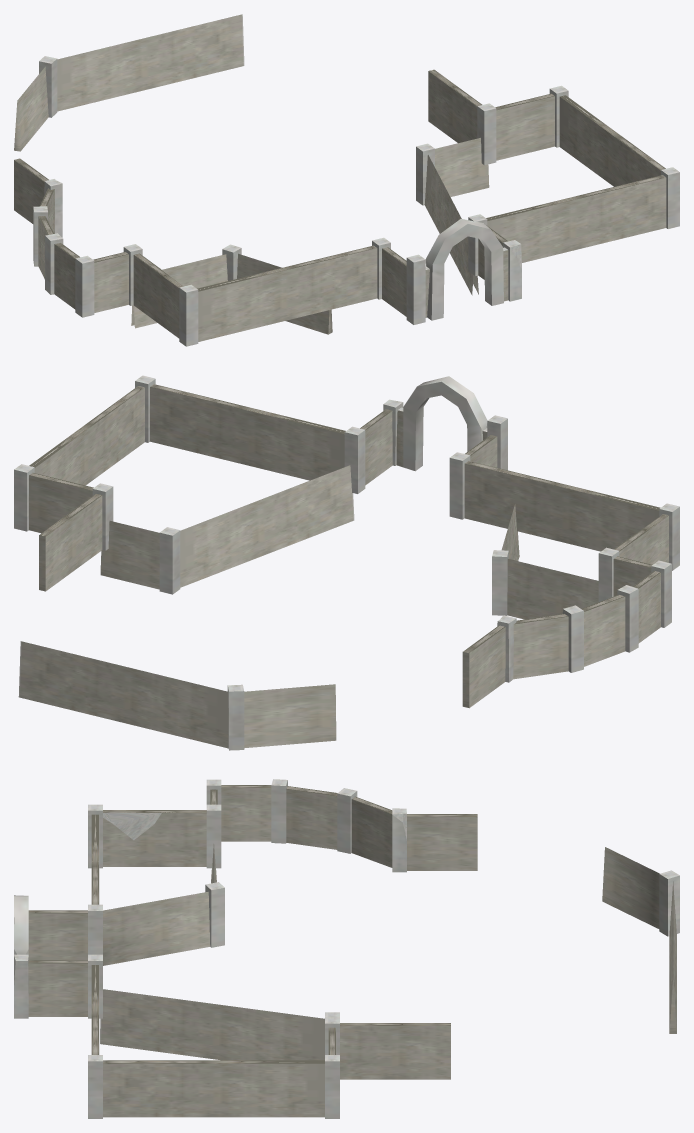
The model's file is poi_corl_farm_64x64_s01_l1.fbx.
3 views of the same model, one above another, from view 1: azimuth 30°, elevation 25°; view 2: azimuth 150°, elevation 25°; view 3: azimuth 270°, elevation 25° (orthographic). The views are drawn at different scales.
Visible parts, largest first — view 1: mesh_node; view 2: mesh_node; view 3: mesh_node.
Part boxes in pixels (bbox=[...]): mesh_node: bbox=[14, 14, 679, 346]; mesh_node: bbox=[14, 375, 679, 750]; mesh_node: bbox=[14, 779, 679, 1118].
Size of the model in its own units: 45.06 by 9 by 44.96.
Materials: 1 (1 with a texture image).
